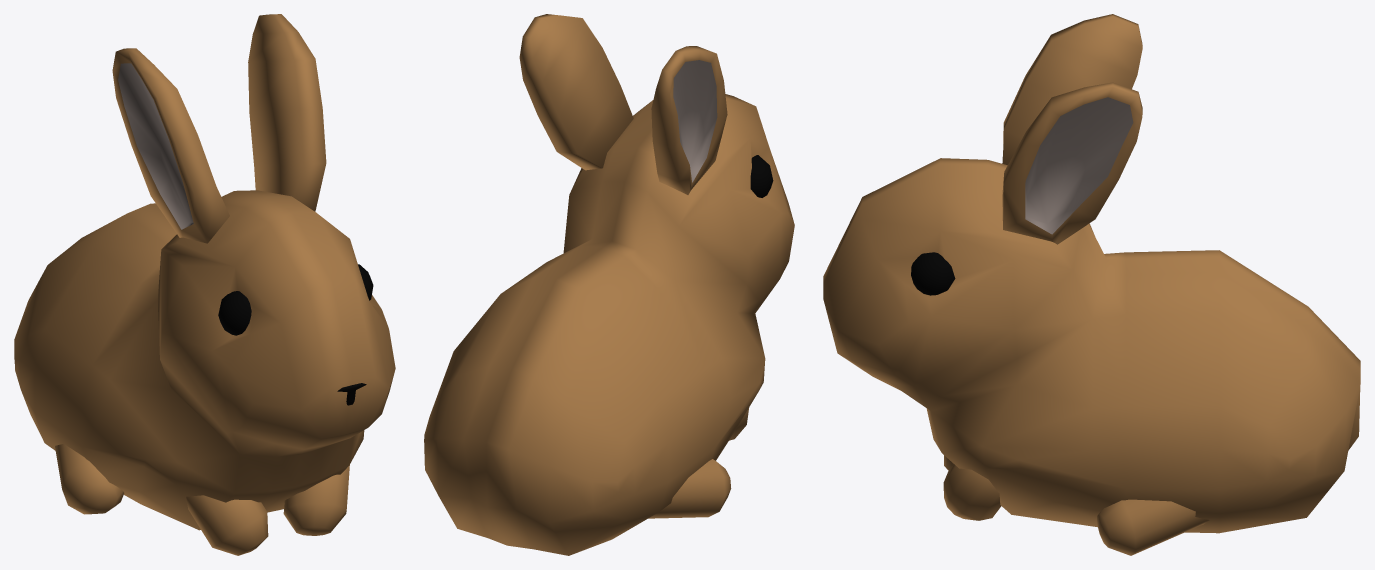
The model's file is bunny.fbx.
The picture shows the model from 3 angles, left to right: view 1: azimuth 30°, elevation 25°; view 2: azimuth 150°, elevation 25°; view 3: azimuth 270°, elevation 25°; orthographic projection. The views are drawn at different scales.
Parts seen in each view (by area): view 1: Plane, Cube.001, Icosphere; view 2: Plane, Cube.001, Icosphere; view 3: Plane, Cube.001, Icosphere.
Part boxes in pixels (x1,y1,x2,y2): Plane: (14,14,395,555); Cube.001: (118,63,193,229); Icosphere: (218,264,373,335); Plane: (424,14,794,555); Cube.001: (673,60,717,182); Icosphere: (750,155,773,197); Plane: (823,14,1360,555); Cube.001: (1025,97,1133,234); Icosphere: (911,252,955,295).
Bounding box in the file's own units: 126 × 228 × 214.
